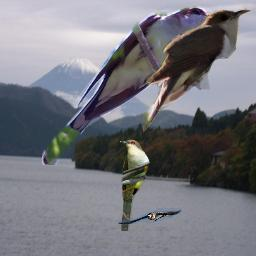Cuckoo: (42, 6, 227, 165), (143, 7, 251, 136), (119, 139, 150, 231)
Swallow: (118, 208, 182, 224)
